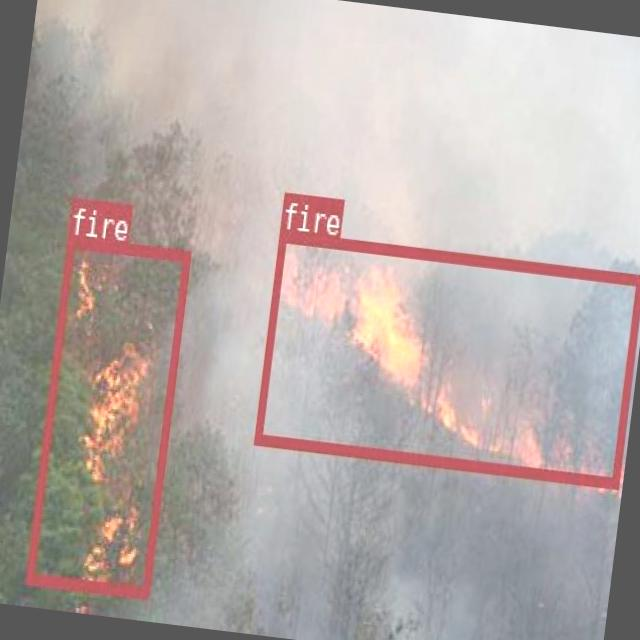fire: (253, 229, 640, 487), (25, 233, 189, 594)
